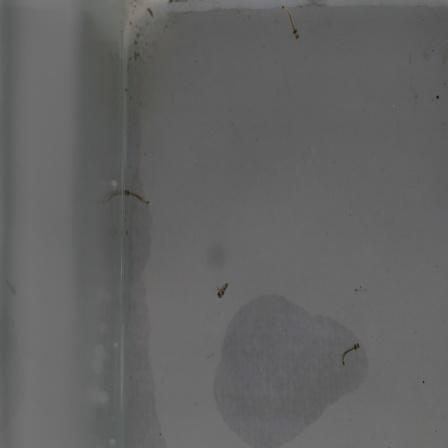Jentik-Nyamuk: (278, 0, 302, 43), (120, 183, 153, 209), (338, 338, 363, 370), (214, 281, 230, 300)
